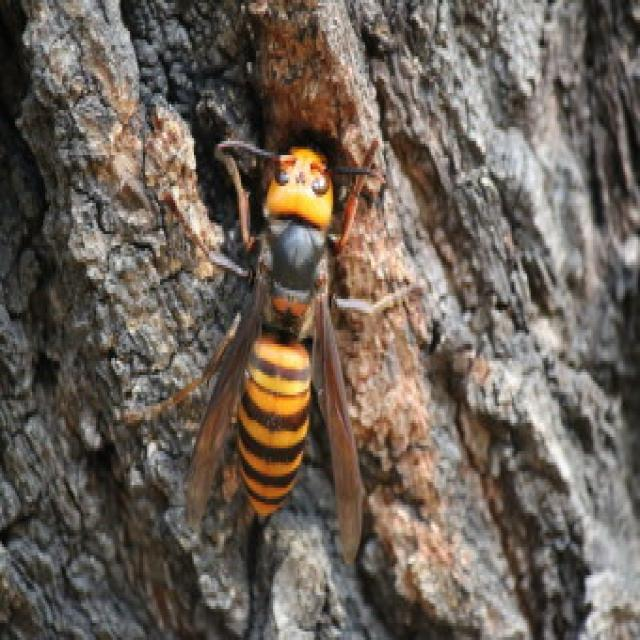Wasp: (225, 144, 365, 548)
